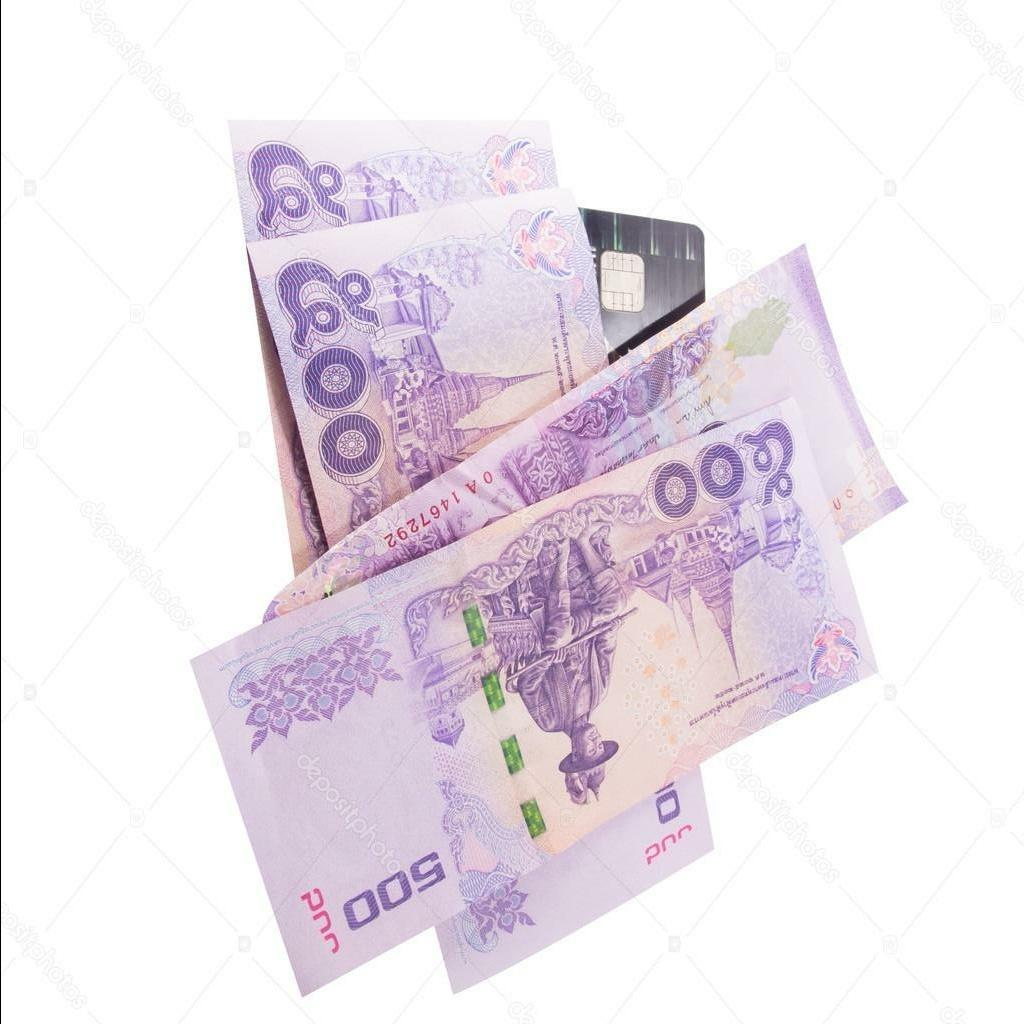500BahtTai: (195, 406, 834, 996)
